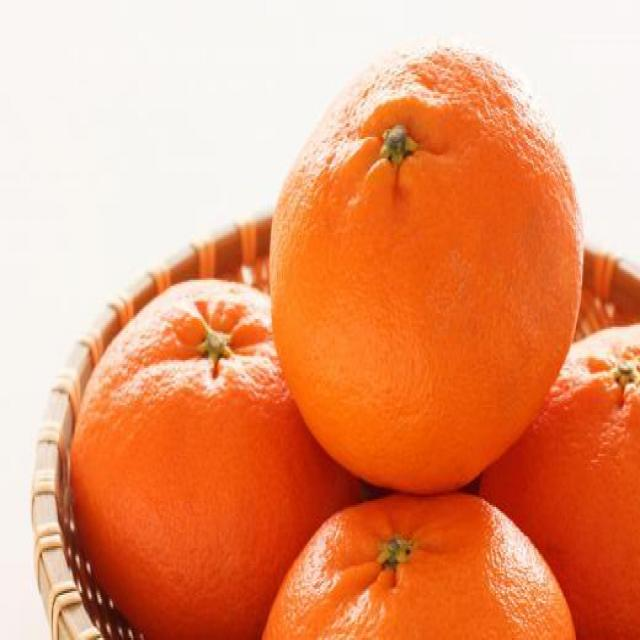10_tangerine: (272, 41, 588, 498), (72, 272, 358, 640), (261, 468, 583, 640)
